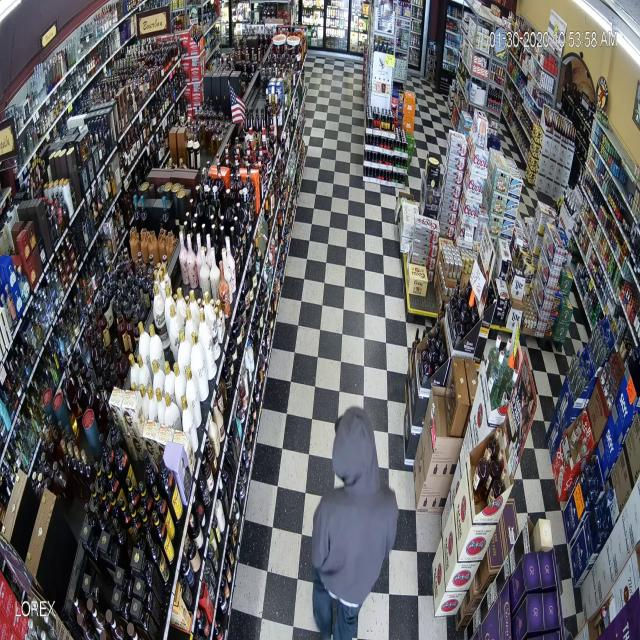normal: (287, 382, 419, 640)
